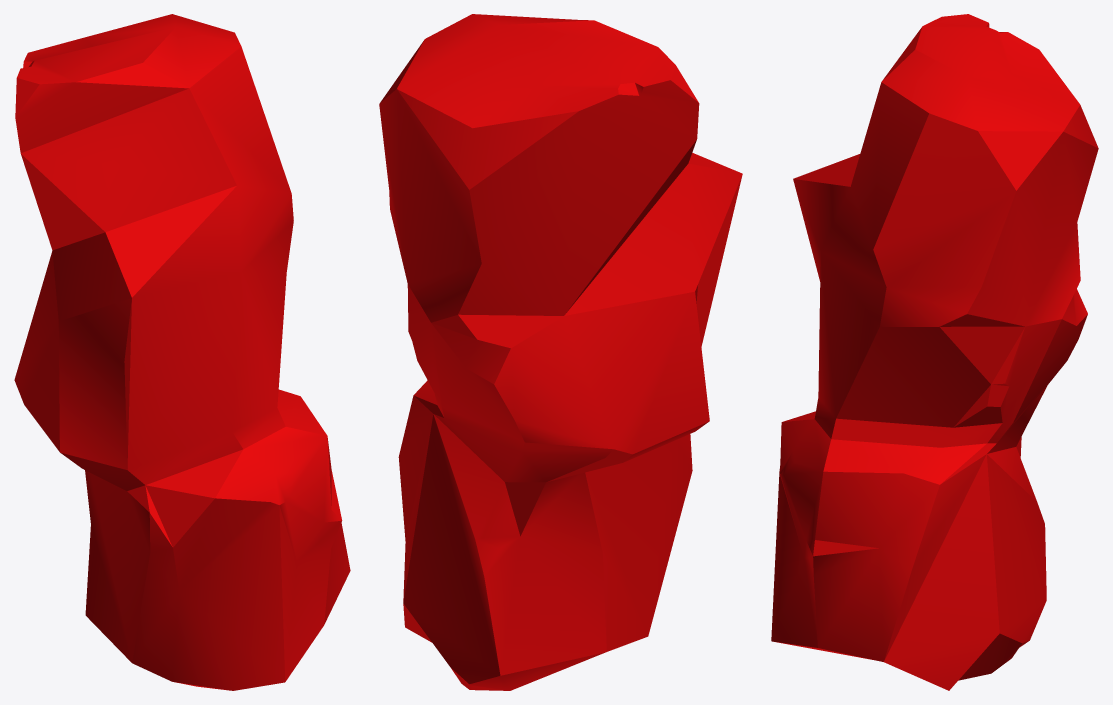
The model's file is skala5.fbx.
3 views of the same model, side by side, from view 1: azimuth 30°, elevation 25°; view 2: azimuth 150°, elevation 25°; view 3: azimuth 270°, elevation 25° (orthographic). The views are drawn at different scales.
Parts seen in each view (by area): view 1: skala5; view 2: skala5; view 3: skala5.
Part boxes in pixels (left/top/right/bottom): skala5: left=14, top=14, right=350, bottom=690; skala5: left=379, top=14, right=742, bottom=690; skala5: left=771, top=14, right=1098, bottom=690.
Bounding box in the file's own units: 0.5041 × 0.9701 × 0.4884.
